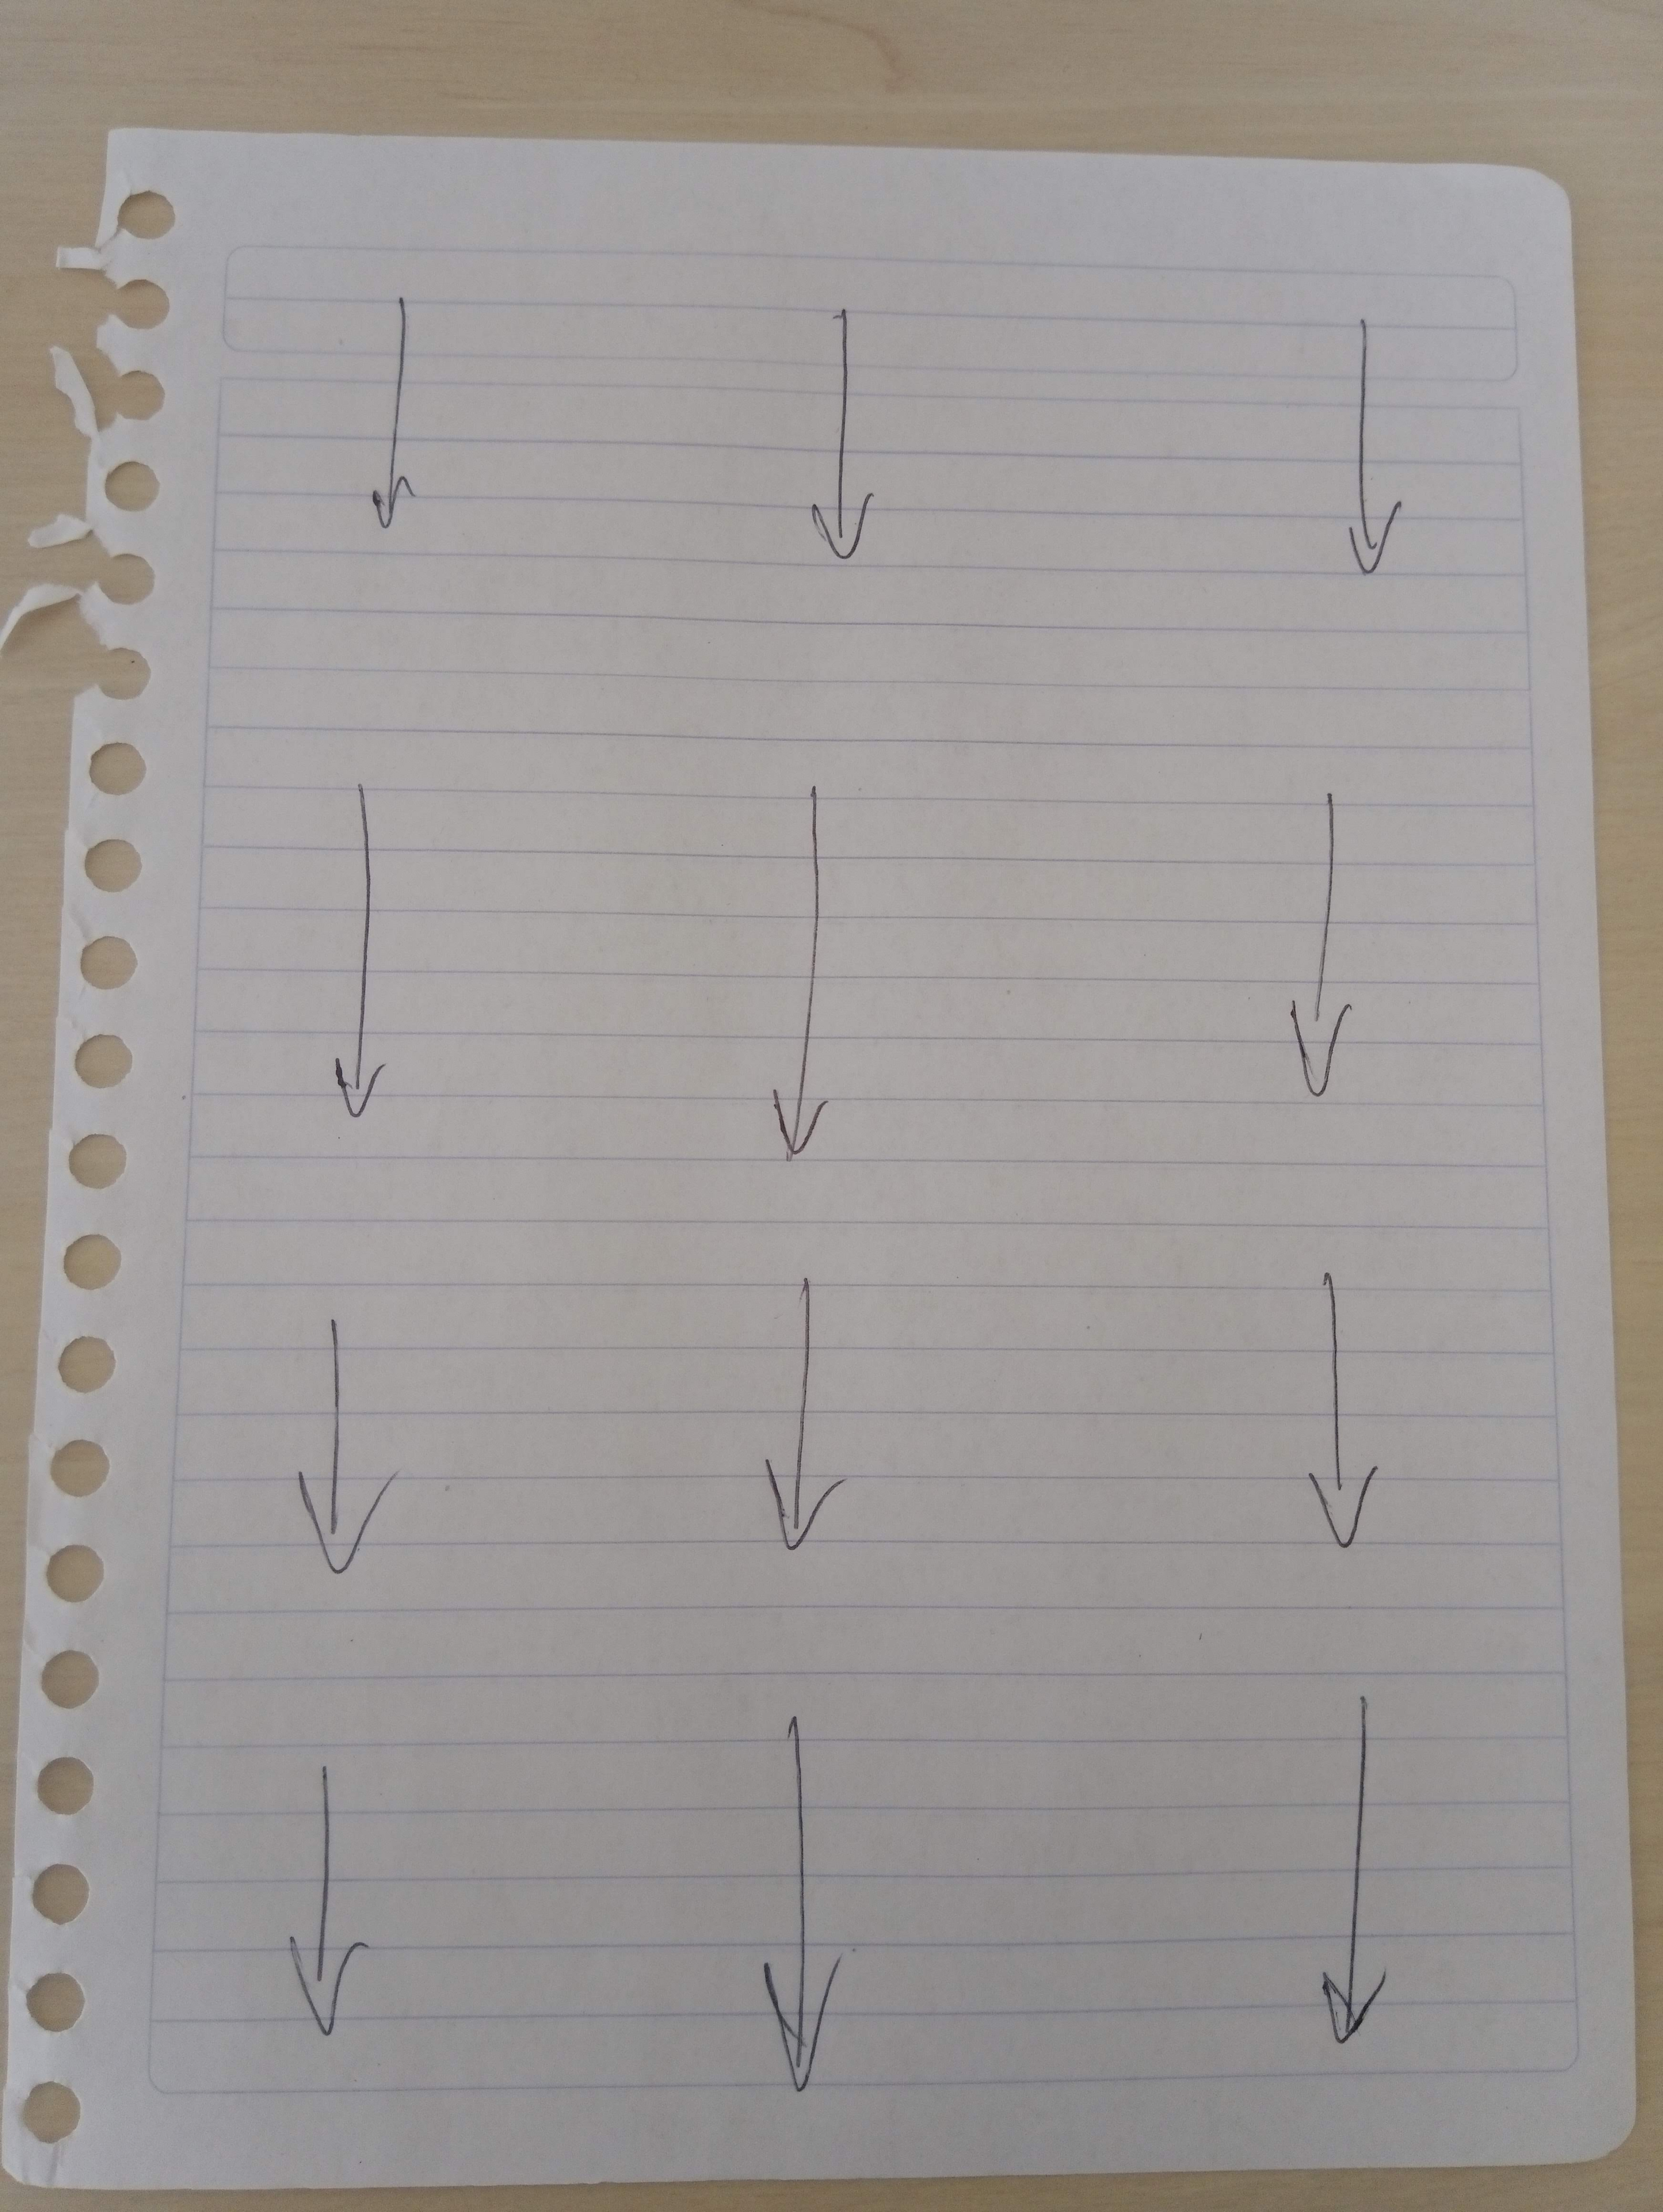arrow_line_down: (732, 1714, 856, 2104), (1279, 1261, 1422, 1568), (238, 1755, 381, 2044), (758, 772, 854, 1175), (271, 1315, 417, 1575), (1312, 292, 1432, 608), (732, 1274, 861, 1561), (311, 765, 409, 1138), (1272, 787, 1368, 1109), (1322, 1678, 1399, 2074), (335, 292, 442, 531), (788, 307, 886, 562)
